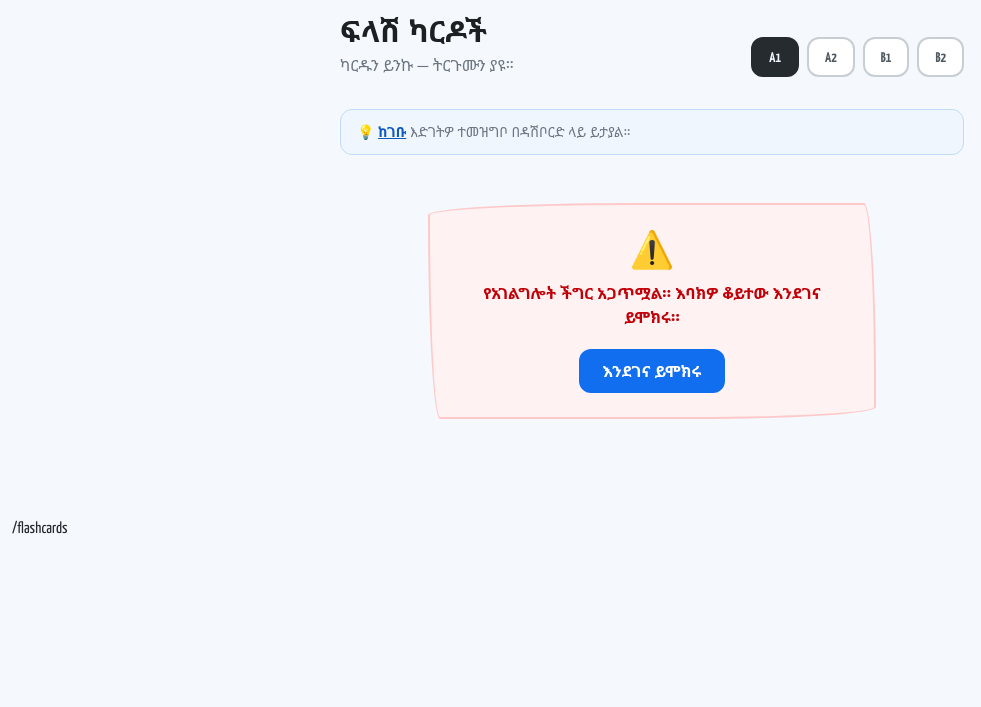
Scenario: Flashcards › shows an Amharic error with a retry button when words fail to load, and retry works
The width and height of the screenshot is (981, 707).
Check: the message shows "የአገልግሎት ችግር አጋጥሟል", box [483,282,821,328]
Click the button "እንደገና ይሞክሩ" at (652, 371), box [579,349,725,393]
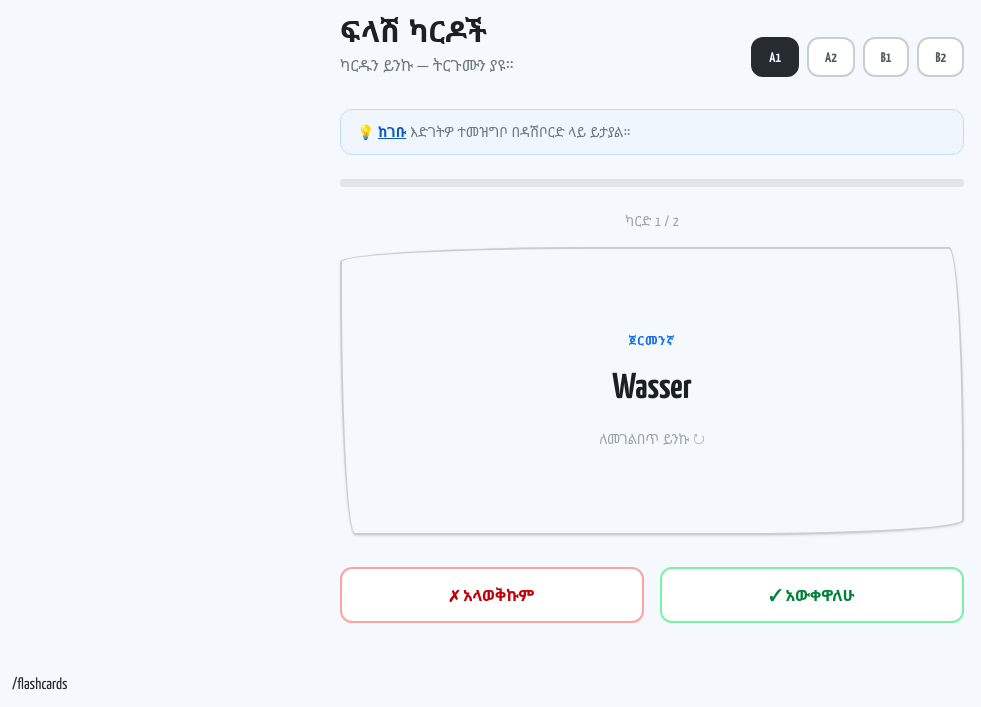
Check: the text "ካርድ 1 / 2" is shown, box [625,211,679,230]
Check: the message "⚠️ የአገልግሎት ችግር አጋጥሟል። እባክዎ ቆይተው እንደገና ይሞክሩ። እንደገና ይሞክሩ" is gone
